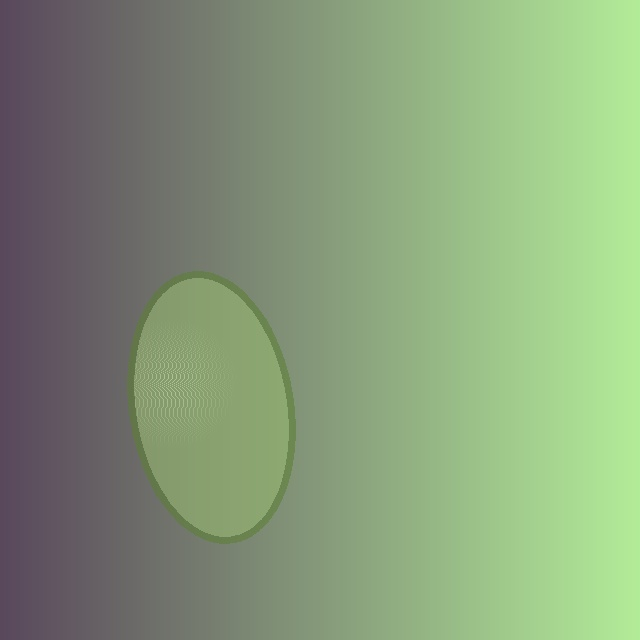lens: (130, 275, 292, 539)
